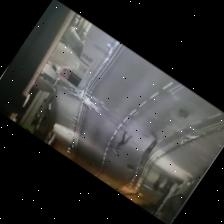person: (140, 140, 157, 164), (114, 132, 132, 153)
